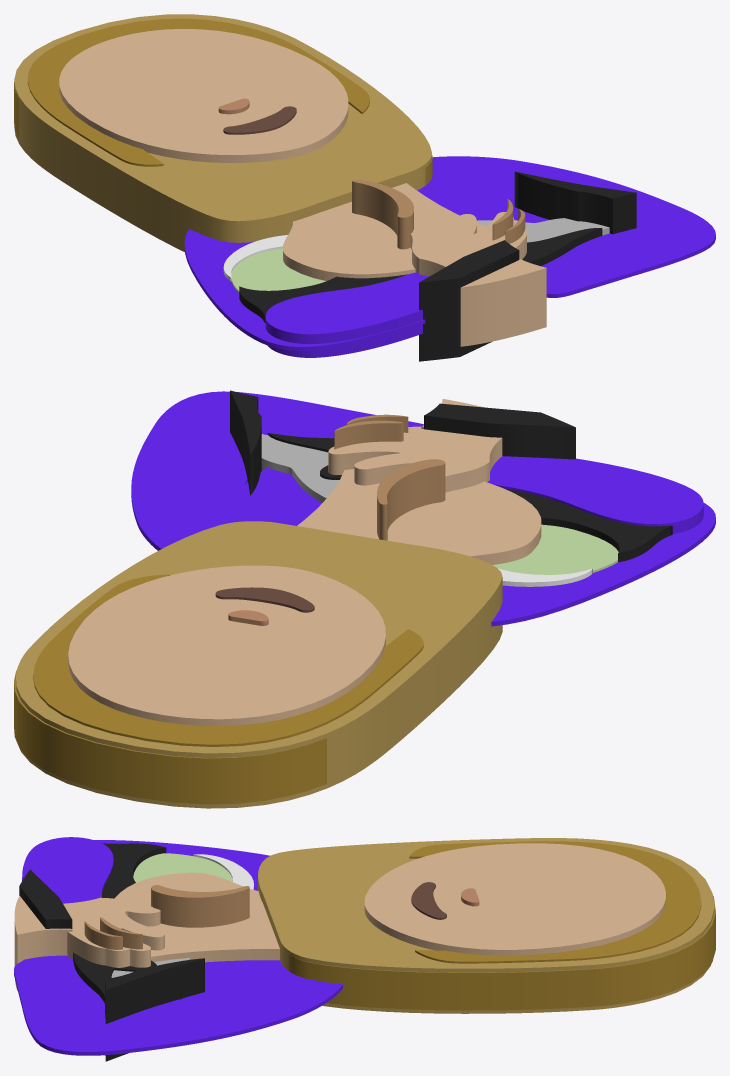
Rendered from emoji_u1f931_1f3fc.glb.
3 renders of one model, top to bottom at view 1: azimuth 30°, elevation 25°; view 2: azimuth 150°, elevation 25°; view 3: azimuth 270°, elevation 25°, orthographic. The views are drawn at different scales.
Visible parts, largest first — view 1: emoji_u1f931_1f3fc; view 2: emoji_u1f931_1f3fc; view 3: emoji_u1f931_1f3fc.
Boxes of the visible parts, x1,y1,x2,y2 form: emoji_u1f931_1f3fc: [14, 14, 715, 361]; emoji_u1f931_1f3fc: [14, 390, 715, 808]; emoji_u1f931_1f3fc: [14, 837, 715, 1061].
Size of the model in its own units: 0.0242 by 0.0046 by 0.0339.
